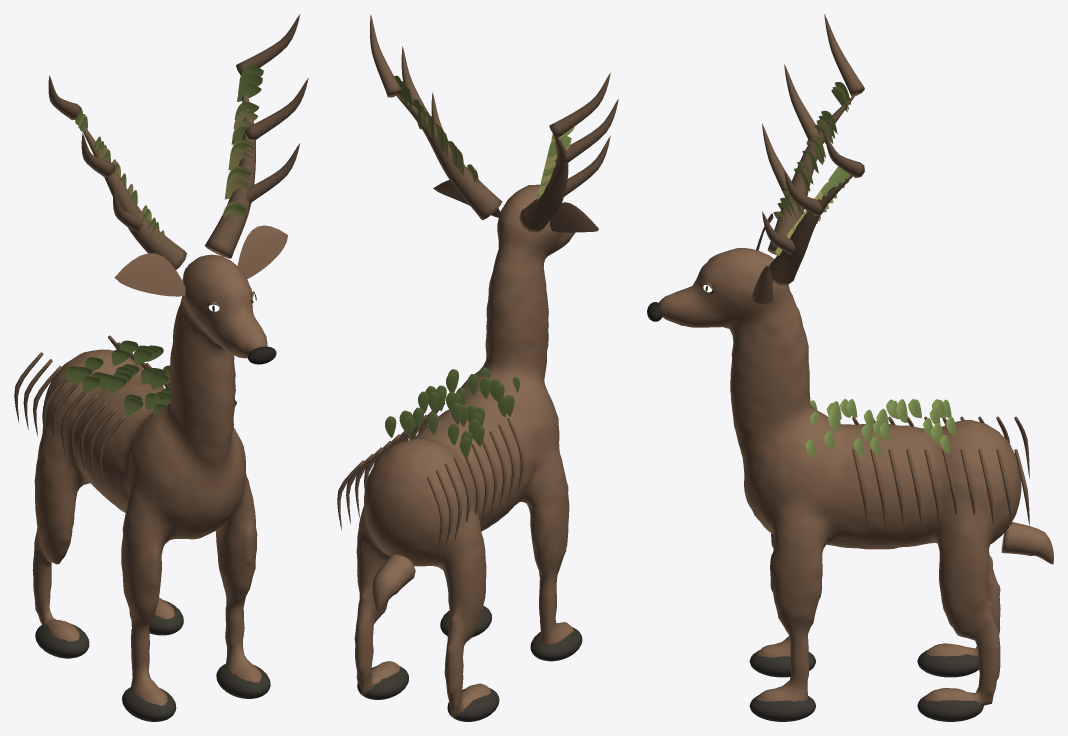
The model's file is sylvara.glb.
3 renders of one model, left to right at view 1: azimuth 30°, elevation 25°; view 2: azimuth 150°, elevation 25°; view 3: azimuth 270°, elevation 25°, orthographic. The views are drawn at different scales.
Parts seen in each view (by area): view 1: Sylvara_Character_Ancient chestnut hide, Sylvara_Character_Living bark antlers, Sylvara_Character_Crown leaves, Sylvara_Character_Bone hoof, Sylvara_Character_Young leaves, Sylvara_Character_Stag nose; view 2: Sylvara_Character_Ancient chestnut hide, Sylvara_Character_Living bark antlers, Sylvara_Character_Crown leaves, Sylvara_Character_Bone hoof, Sylvara_Character_Young leaves; view 3: Sylvara_Character_Ancient chestnut hide, Sylvara_Character_Living bark antlers, Sylvara_Character_Crown leaves, Sylvara_Character_Bone hoof, Sylvara_Character_Young leaves.
Part boxes in pixels (x1,y1,x2,y2): Sylvara_Character_Ancient chestnut hide: (32,225,287,705); Sylvara_Character_Living bark antlers: (14,14,308,484); Sylvara_Character_Crown leaves: (66,65,263,415); Sylvara_Character_Bone hoof: (35,600,270,721); Sylvara_Character_Young leaves: (78,110,257,243); Sylvara_Character_Stag nose: (207,293,276,364); Sylvara_Character_Ancient chestnut hide: (354,180,598,717); Sylvara_Character_Living bark antlers: (337,14,618,553); Sylvara_Character_Crown leaves: (385,75,573,458); Sylvara_Character_Bone hoof: (357,606,582,721); Sylvara_Character_Young leaves: (420,105,574,198); Sylvara_Character_Ancient chestnut hide: (658,213,1053,705); Sylvara_Character_Living bark antlers: (762,14,1029,525); Sylvara_Character_Crown leaves: (777,82,956,457); Sylvara_Character_Bone hoof: (749,650,983,721); Sylvara_Character_Young leaves: (773,86,848,255).
Bounding box in the file's own units: 2.02 × 4.96 × 2.94.
